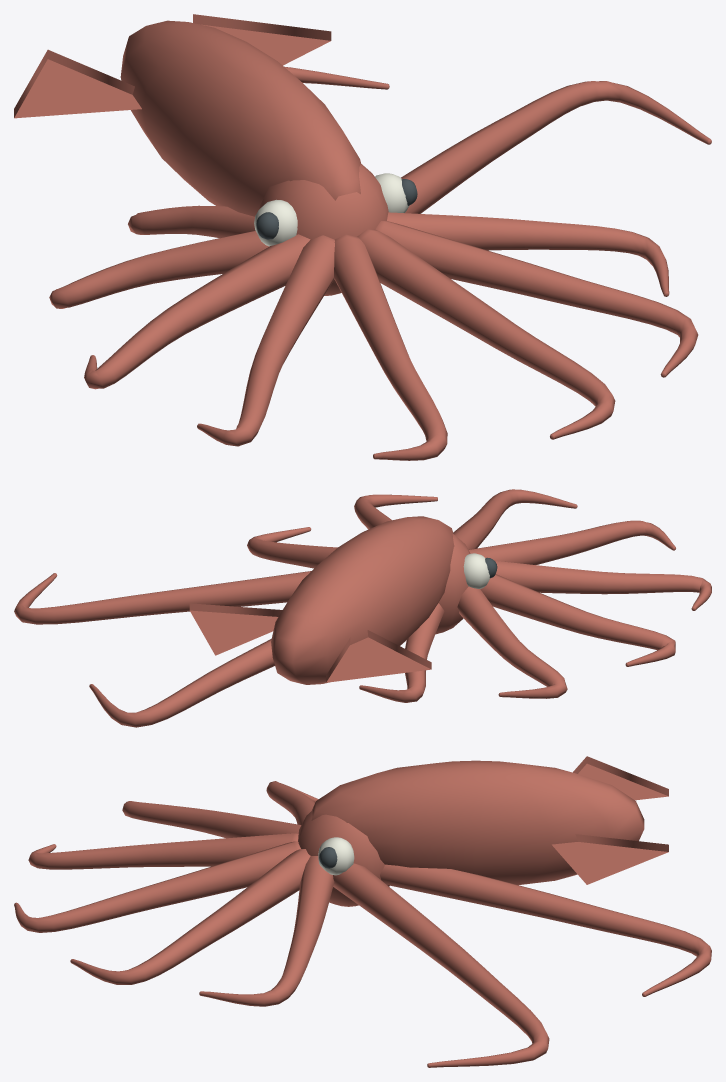
File: open-ocean-and-deep-sea-life-giant-squid-54115d2b__5887.glb
3 renders of one model, top to bottom at view 1: azimuth 30°, elevation 25°; view 2: azimuth 150°, elevation 25°; view 3: azimuth 270°, elevation 25°, orthographic. The views are drawn at different scales.
Visible parts, largest first — view 1: giant-squid; view 2: giant-squid; view 3: giant-squid.
Boxes of the visible parts, <box> form: giant-squid: <box>14,14,711,460</box>; giant-squid: <box>14,489,711,727</box>; giant-squid: <box>14,756,711,1067</box>.
Size of the model in its own units: 7.49 by 1.74 by 8.
